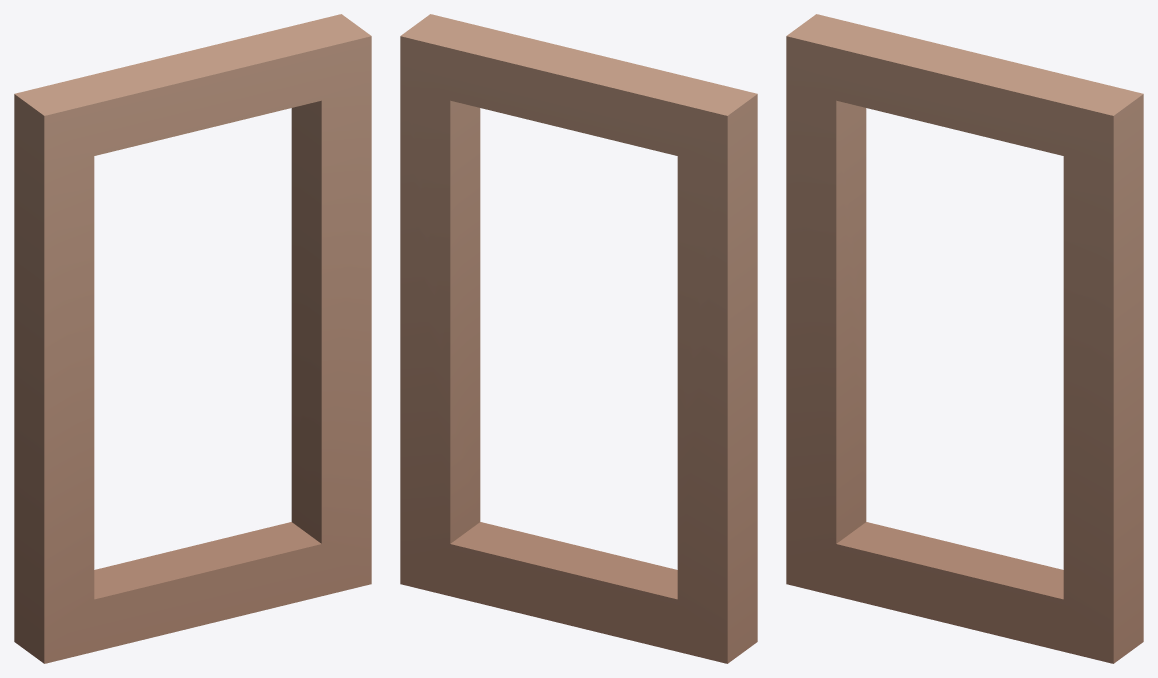
File: window-brown-tall.glb
The picture shows the model from 3 angles, left to right: view 1: azimuth 30°, elevation 25°; view 2: azimuth 150°, elevation 25°; view 3: azimuth 330°, elevation 25°; orthographic projection.
Parts seen in each view (by area): view 1: window-brown-tall; view 2: window-brown-tall; view 3: window-brown-tall.
Boxes of the visible parts, x1=… form: window-brown-tall: x1=14, y1=14, x2=371, y2=663; window-brown-tall: x1=400, y1=14, x2=757, y2=663; window-brown-tall: x1=786, y1=14, x2=1143, y2=663.
Size of the model in its own units: 0.3125 by 0.5 by 0.05.
